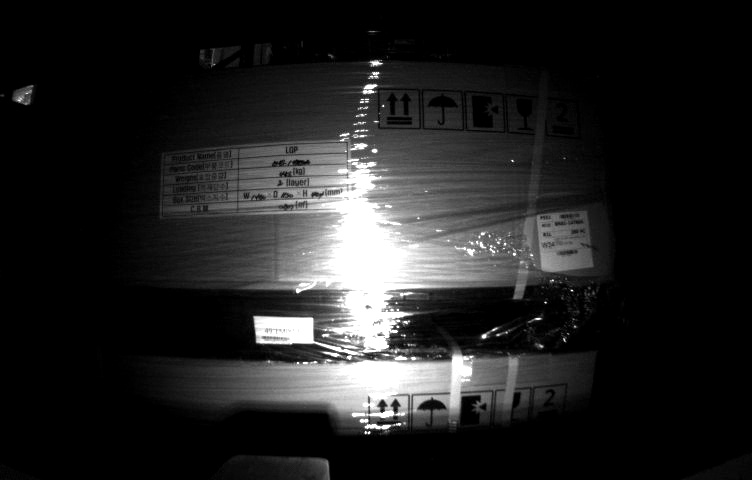True Barcode: (537, 205, 596, 274)
